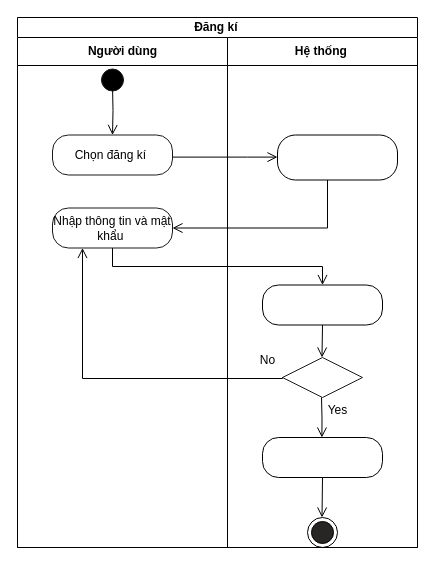
Some shapes in this 435 by 565 pixel diagram are drawn without their labels. Each missing label, with the centre of its shape:
"Hiện form đăng kí" belongs at pixel 337 157.
"Kiểm tra tài khoản có tồn tại chưa" belongs at pixel 322 304.
"Đi tới trang đăng nhập" belongs at pixel 322 457.
